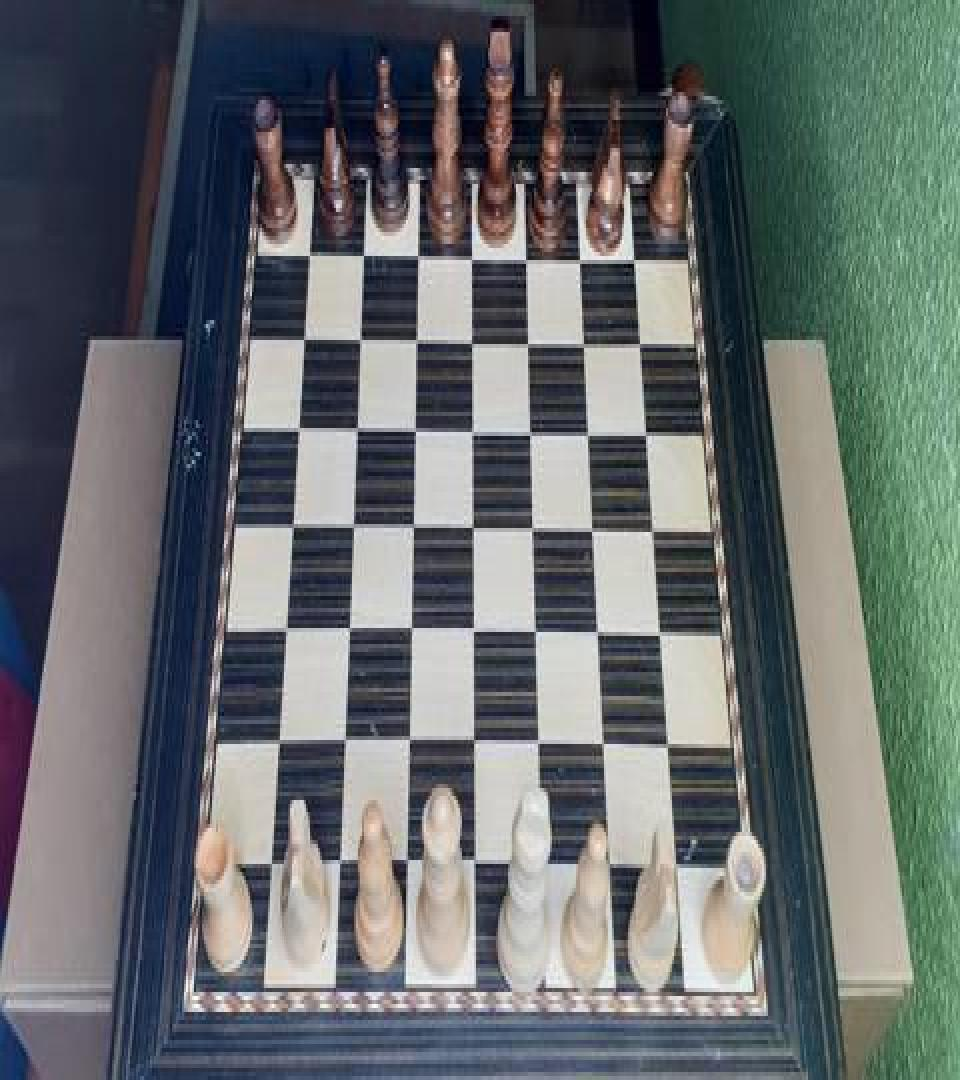xcorner: (298, 230, 316, 266), (293, 316, 311, 352), (287, 406, 305, 442), (281, 504, 299, 540), (275, 608, 293, 644), (268, 722, 286, 758), (260, 846, 278, 882), (354, 232, 372, 268), (350, 316, 368, 352), (347, 408, 365, 444), (343, 504, 361, 540), (339, 610, 357, 646), (334, 724, 352, 760), (329, 846, 347, 882), (409, 232, 427, 268), (407, 318, 425, 354), (406, 408, 424, 444), (404, 506, 422, 542), (402, 610, 420, 646), (400, 724, 418, 760), (398, 848, 416, 884), (464, 234, 482, 270), (464, 318, 482, 354), (465, 410, 483, 446), (465, 506, 483, 542), (466, 612, 484, 648), (467, 726, 485, 762), (467, 848, 485, 884), (519, 236, 537, 272), (521, 320, 539, 356), (524, 410, 542, 446), (526, 508, 544, 544), (529, 612, 547, 648), (533, 726, 551, 762), (536, 850, 554, 886), (573, 236, 591, 272), (578, 320, 596, 356), (582, 412, 600, 448), (587, 508, 605, 544), (593, 614, 611, 650), (599, 728, 617, 764), (605, 850, 623, 886), (628, 238, 646, 274), (635, 322, 653, 358), (641, 412, 659, 448), (648, 510, 666, 546), (656, 614, 674, 650), (665, 728, 683, 764), (674, 852, 692, 888)
